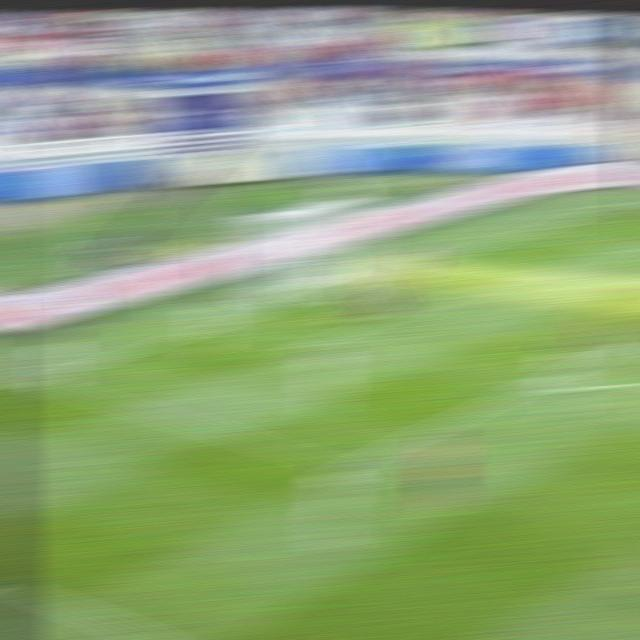bigarea_bottom_inner: (327, 455, 367, 476)
bigarea_bottom_outter: (12, 367, 56, 392)
bigarea_top_outter: (509, 222, 548, 239)
bottom_arc_area_intersection: (510, 374, 554, 398)
corner: (616, 191, 640, 204)
smallarea_bottom_inner: (277, 335, 318, 358)
smallarea_top_inner: (482, 266, 528, 289)
smallarea_top_outter: (410, 253, 447, 270)
